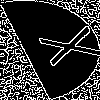X: (25, 25, 100, 71)
